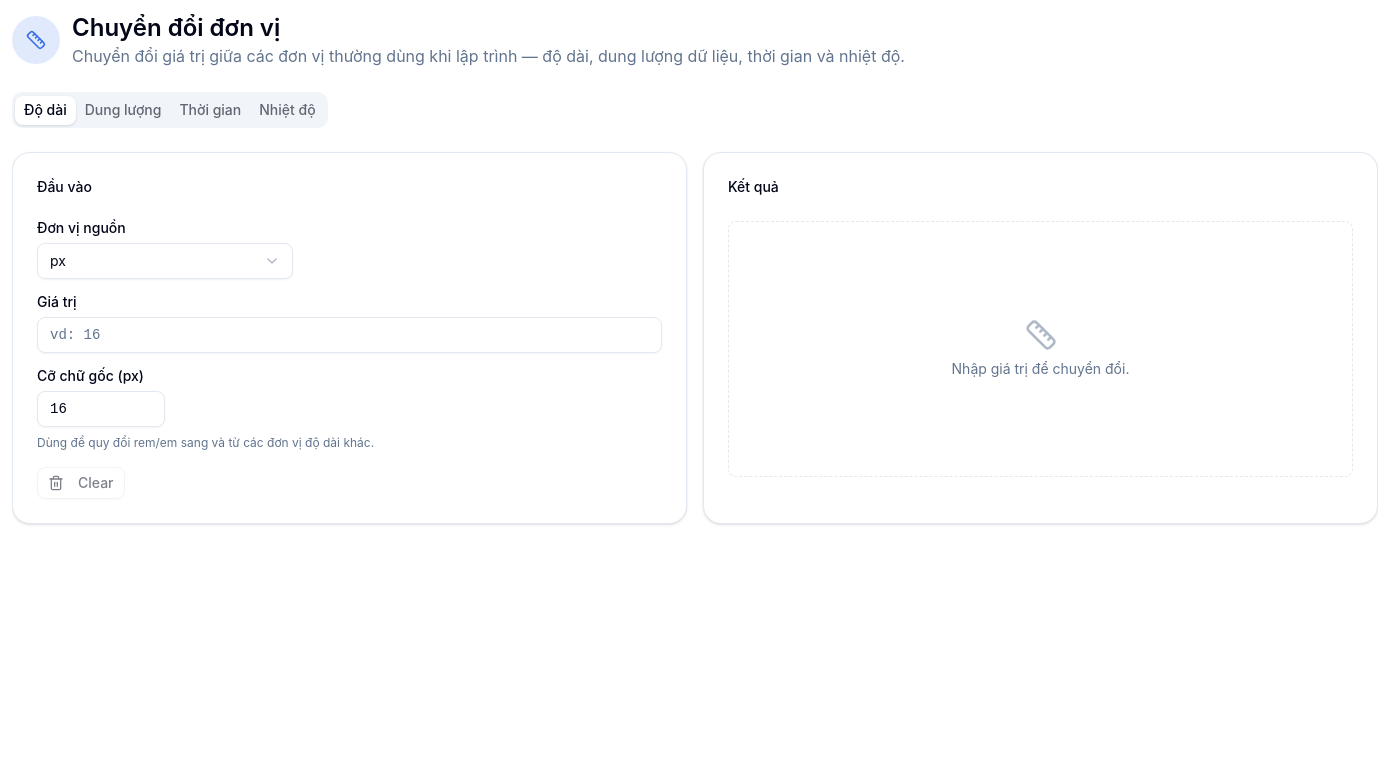
UnitConverterScreen › switches category and shows the units for the new category
Click the tab "Dung lượng": (123, 110) top-left (76, 96), bottom-right (170, 124)
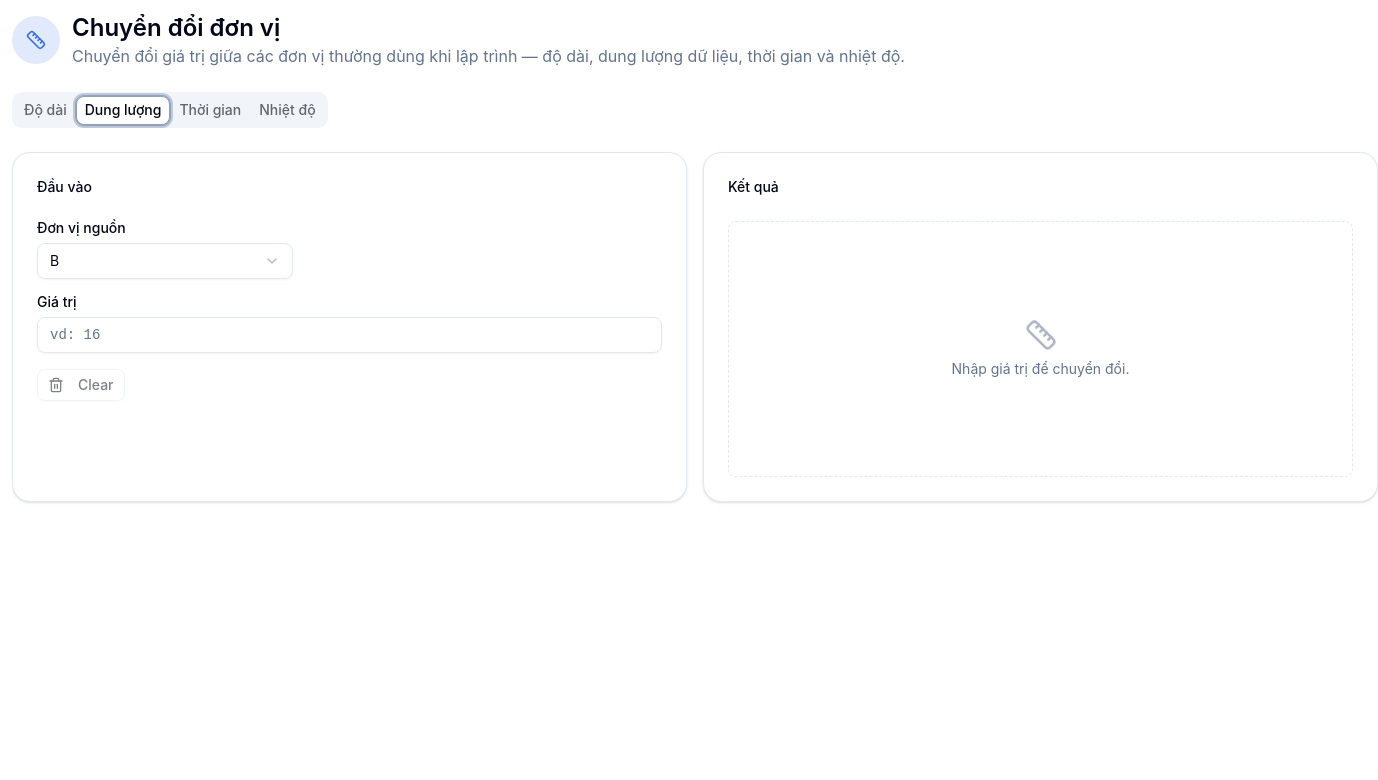
In the field labelled "Giá trị": (350, 335) top-left (37, 317), bottom-right (662, 353), type "1"
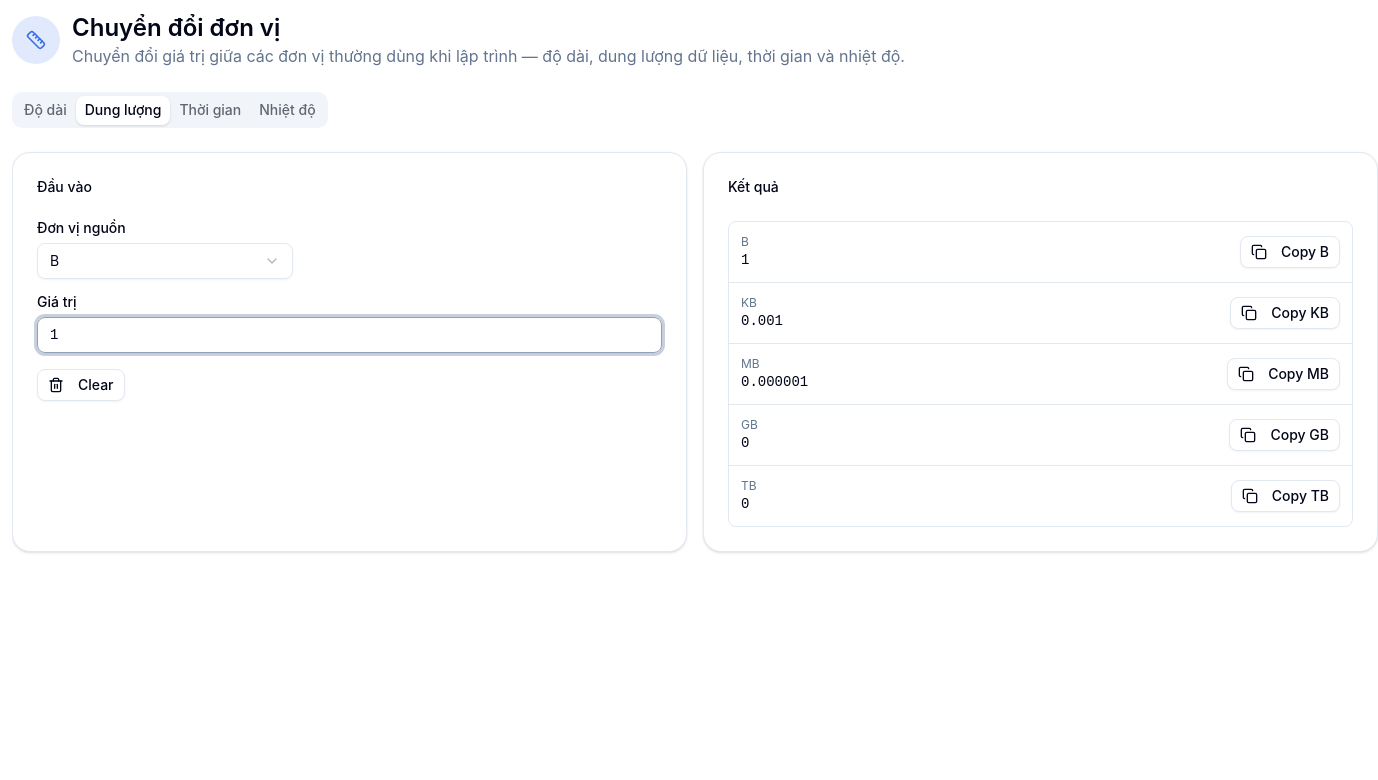
expect the text "0.001" is shown: met, box top-left (741, 311), bottom-right (783, 331)
